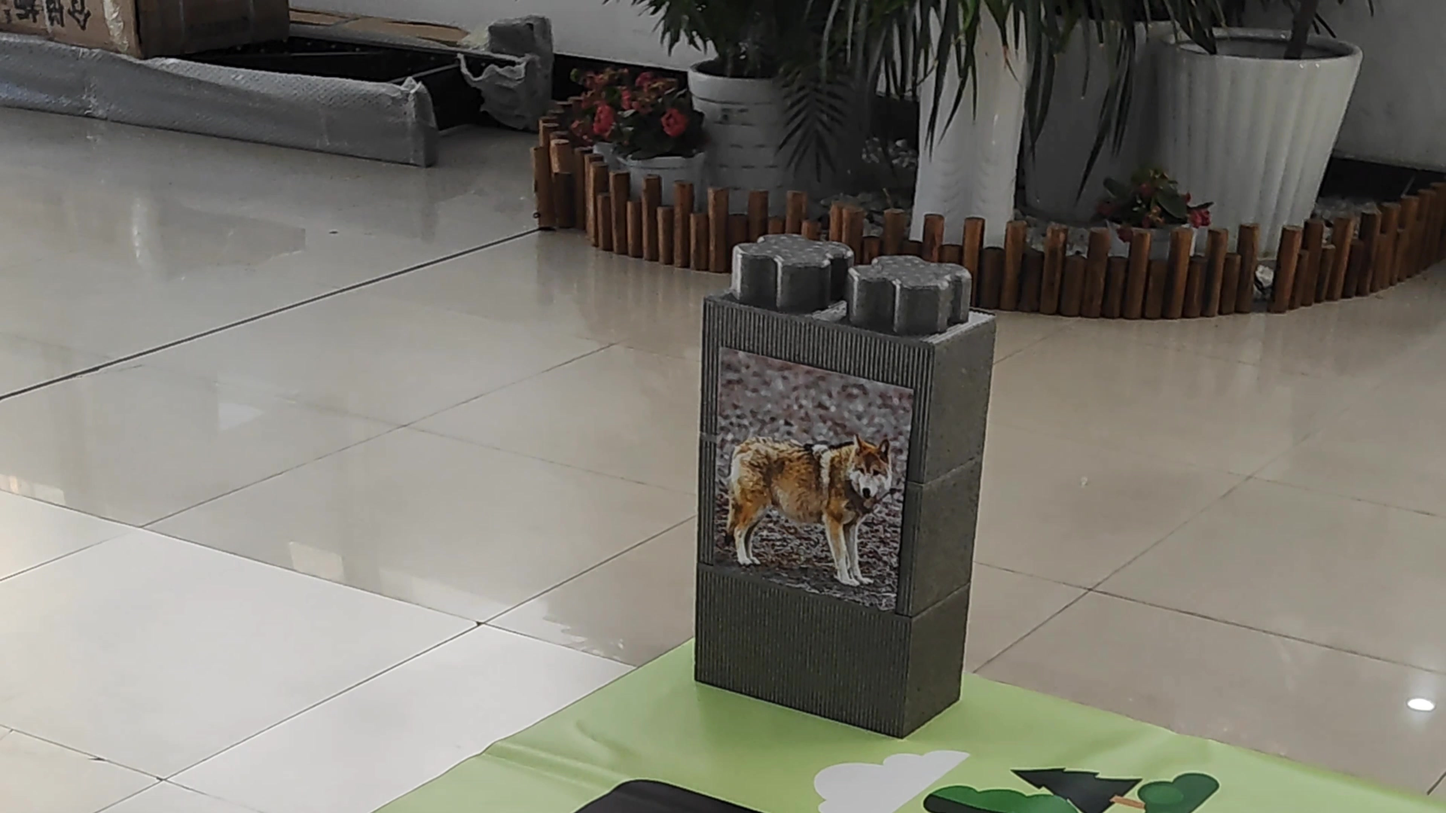wolf: (720, 408, 899, 601)
